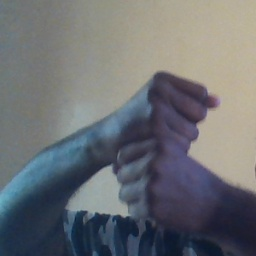G: (105, 67, 230, 230)
